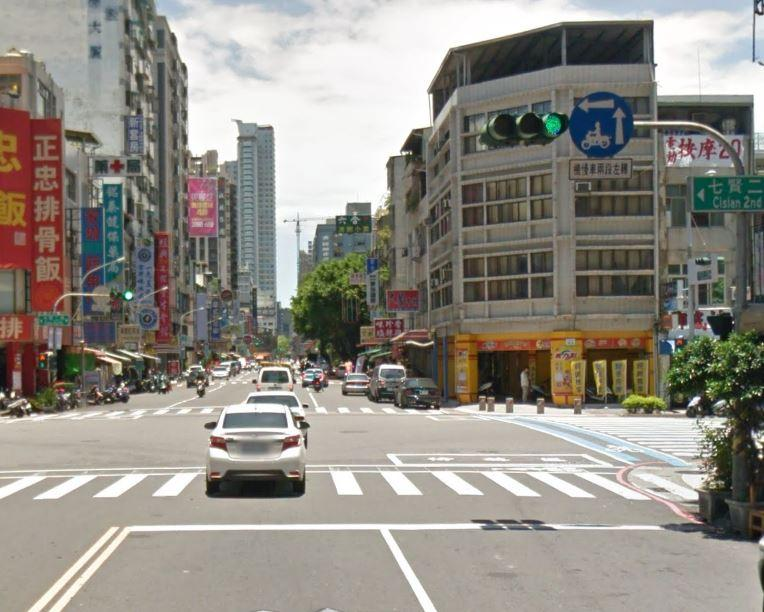green_traffic_light: (482, 110, 565, 146)
